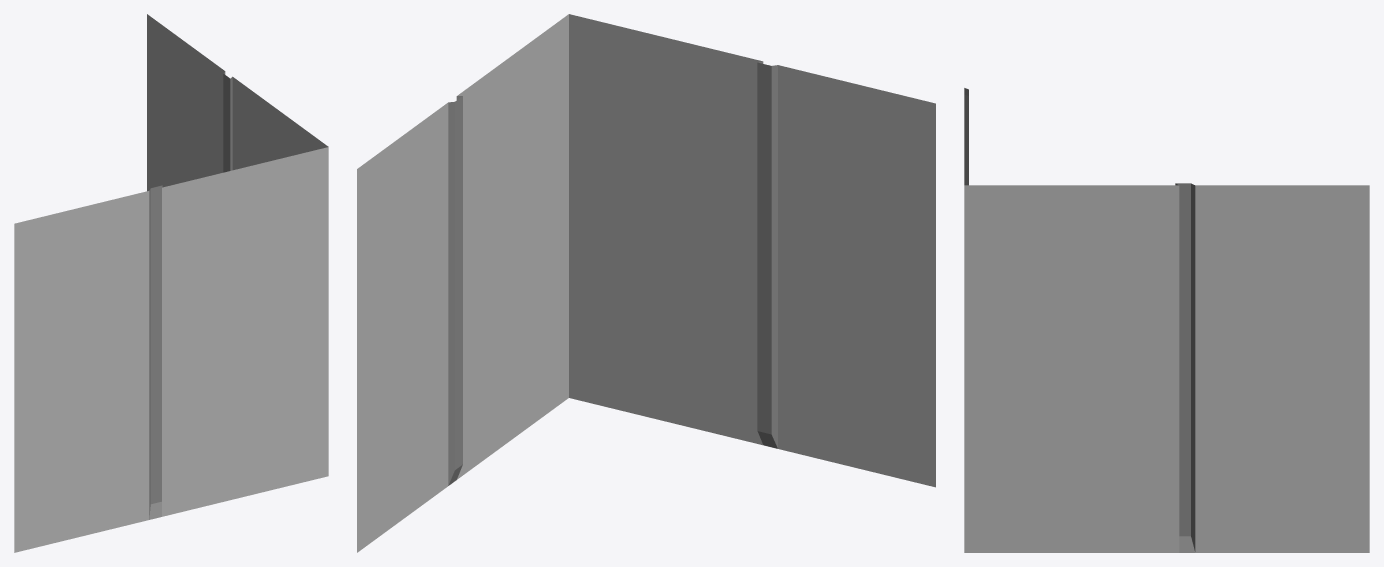
The model's file is Ext-ConcreteCornerHalfWall.fbx.
The picture shows the model from 3 angles, left to right: view 1: azimuth 30°, elevation 25°; view 2: azimuth 150°, elevation 25°; view 3: azimuth 270°, elevation 25°; orthographic projection. The views are drawn at different scales.
Parts seen in each view (by area): view 1: Ext-ConcreteCornerHalfWall; view 2: Ext-ConcreteCornerHalfWall; view 3: Ext-ConcreteCornerHalfWall.
Part boxes in pixels (left/top/right/bottom): Ext-ConcreteCornerHalfWall: left=14, top=14, right=328, bottom=552; Ext-ConcreteCornerHalfWall: left=357, top=14, right=935, bottom=552; Ext-ConcreteCornerHalfWall: left=964, top=88, right=1369, bottom=552.
Size of the model in its own units: 100 by 100 by 100.
